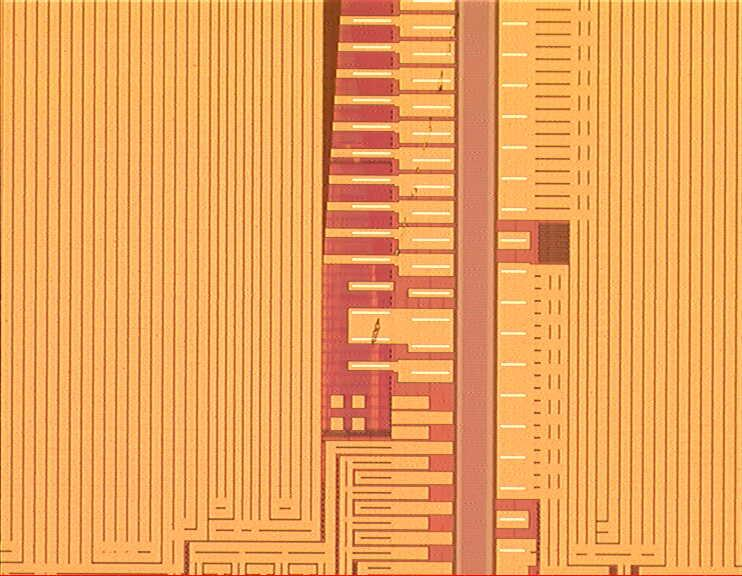SCRATCH: (359, 2, 474, 362)
